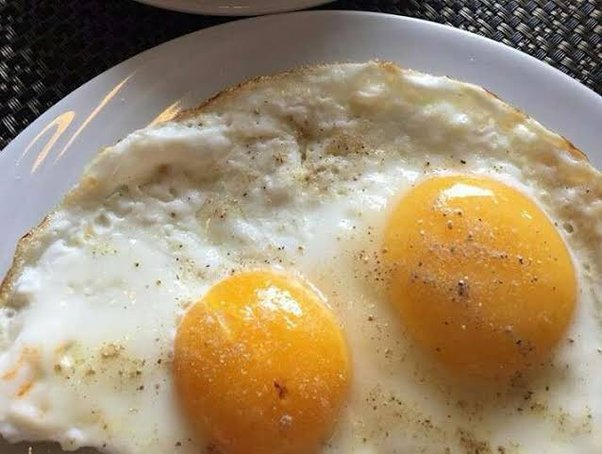Telur: (255, 80, 595, 454), (1, 222, 351, 446)
